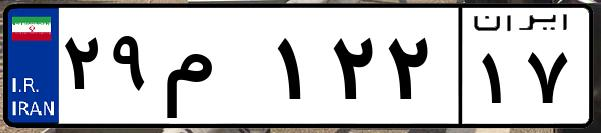1: (270, 28, 330, 110), (475, 38, 525, 113)
2: (385, 28, 445, 110), (330, 28, 385, 110), (57, 26, 110, 100)
7: (525, 38, 570, 115)
9: (110, 28, 158, 98)
م: (158, 20, 270, 120)
